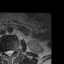CCS_normal: (8, 48, 11, 59)
LFS_normal: (14, 47, 16, 54)
LLS_normal: (11, 47, 13, 56)
RFS_severe_stenosis: (2, 48, 5, 55)
RLS_normal: (5, 47, 8, 58)
